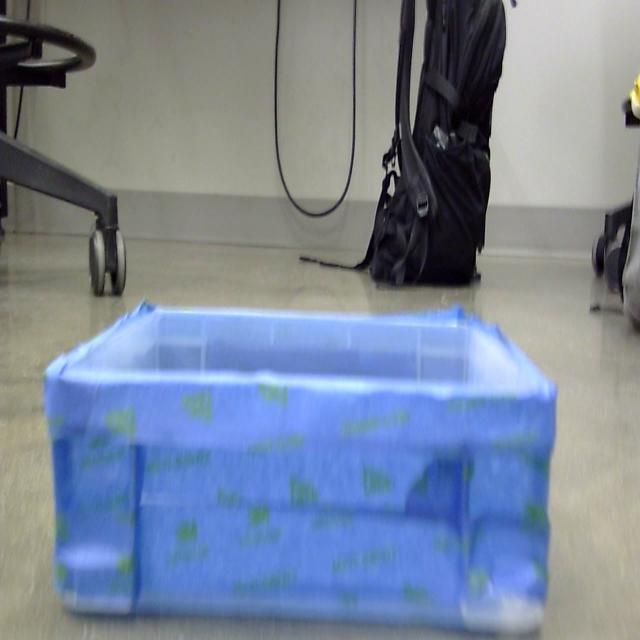bucket: (43, 302, 558, 640)
